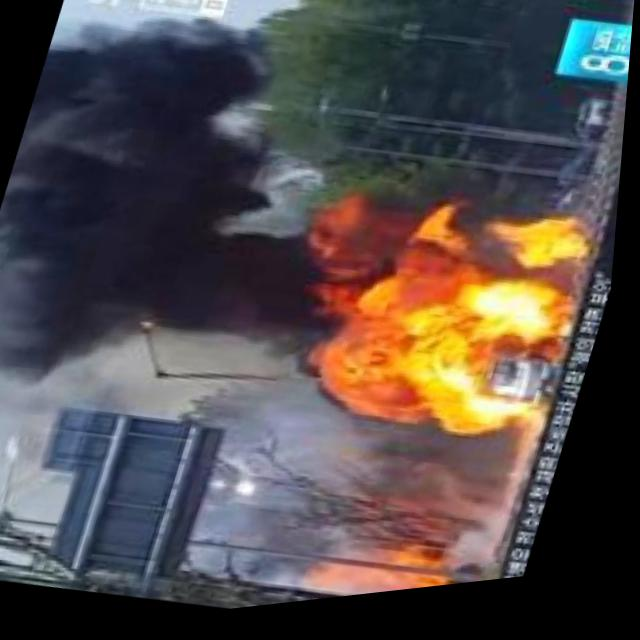Fire: (303, 185, 614, 477), (391, 545, 486, 602)
